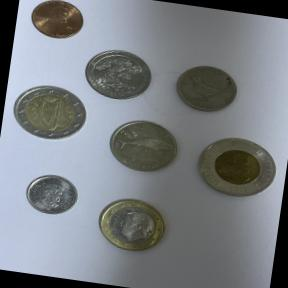coin: (185, 122, 288, 208), (85, 188, 179, 262), (99, 108, 190, 183), (4, 78, 94, 148), (78, 40, 161, 106), (17, 166, 86, 224), (20, 0, 97, 50)
